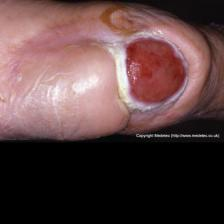Wound: (95, 31, 217, 133)
